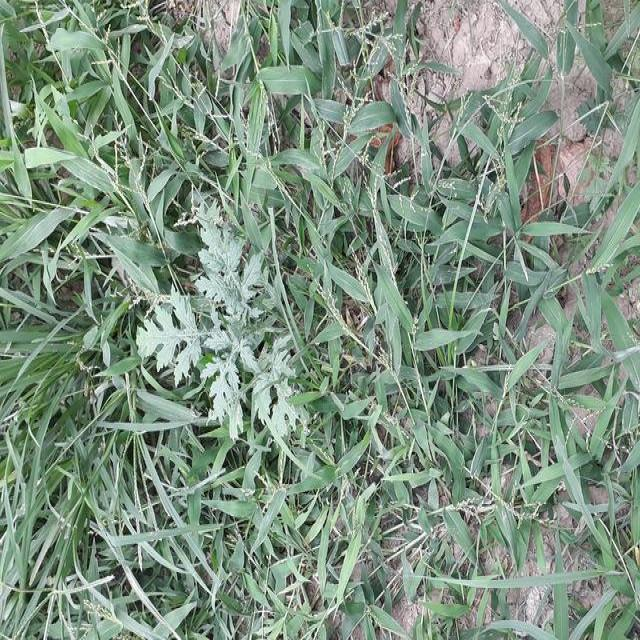weed: (6, 9, 425, 640), (436, 102, 640, 495)
